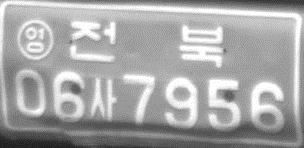0: (13, 68, 46, 119)
5: (206, 76, 241, 132)
6: (249, 80, 285, 135), (51, 70, 84, 123)
7: (122, 73, 155, 126)
9: (163, 76, 199, 131)
사: (89, 77, 117, 123)
영: (16, 18, 54, 60)
전북_D: (67, 19, 225, 68)
